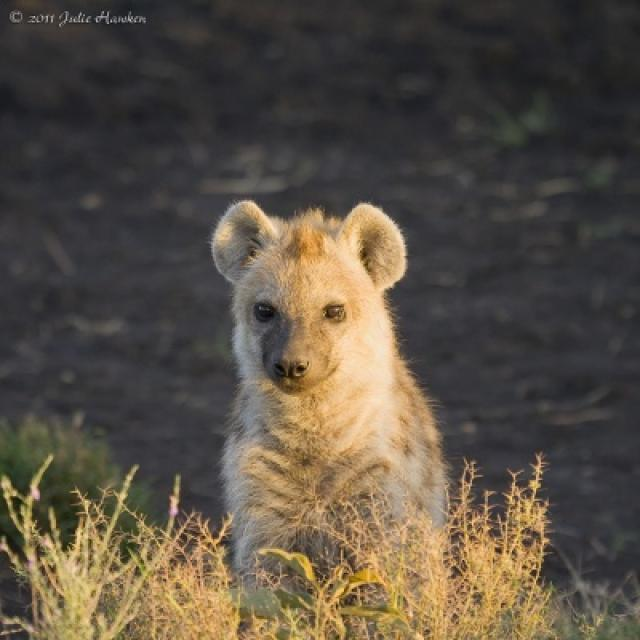hyena: (208, 200, 451, 616)
